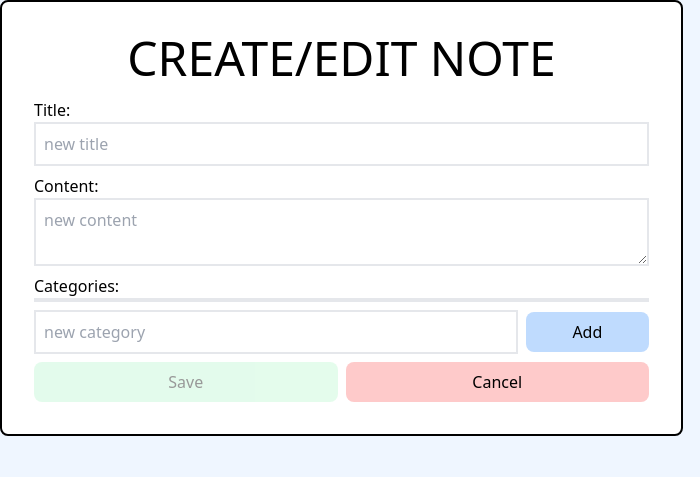
Test case: CreateEditModal › el boton save de habilita
The width and height of the screenshot is (700, 477).
Type "comprar agua" into the field with placeholder "new title" at [342, 144], box [34,122,649,166]
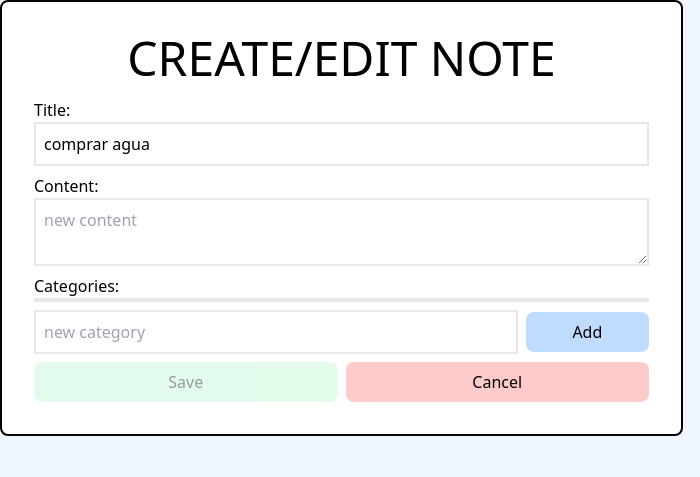
Type "vender papa" into the text box with placeholder "new content" at [342, 232], box [34,198,649,266]
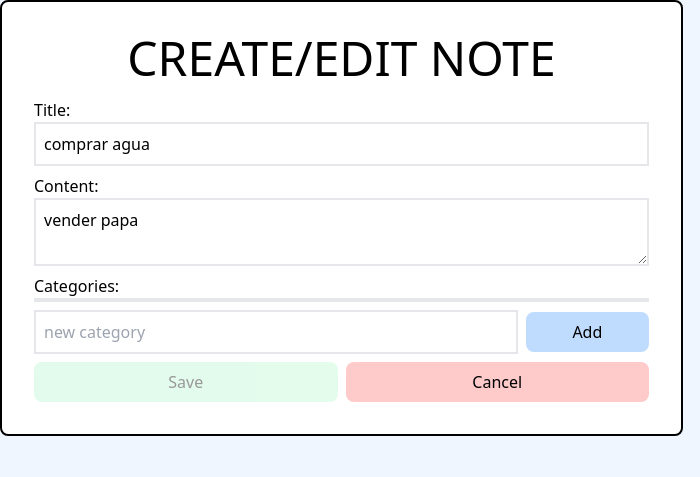
Type "comer torta" into the field with placeholder "new category" at [276, 332], box [34,310,518,354]
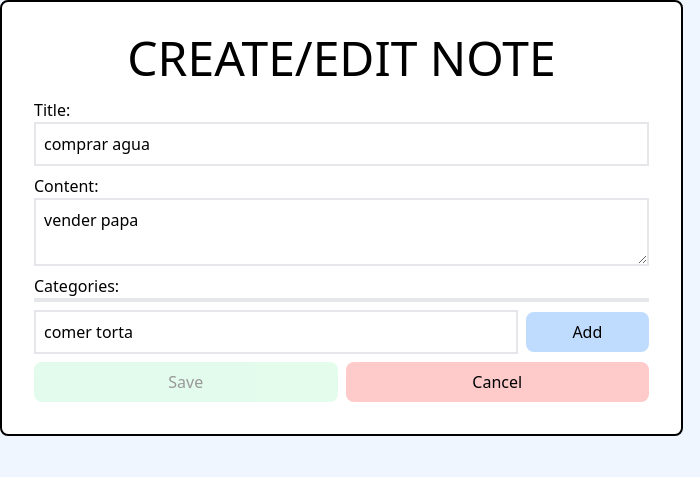
Click the button "Add" at [587, 332], box [526,312,649,352]
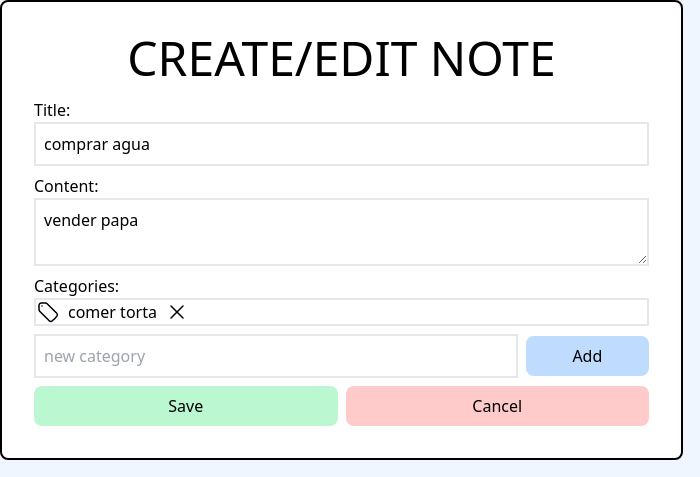
Now the button "Save" is enabled, box [34,386,338,426]
